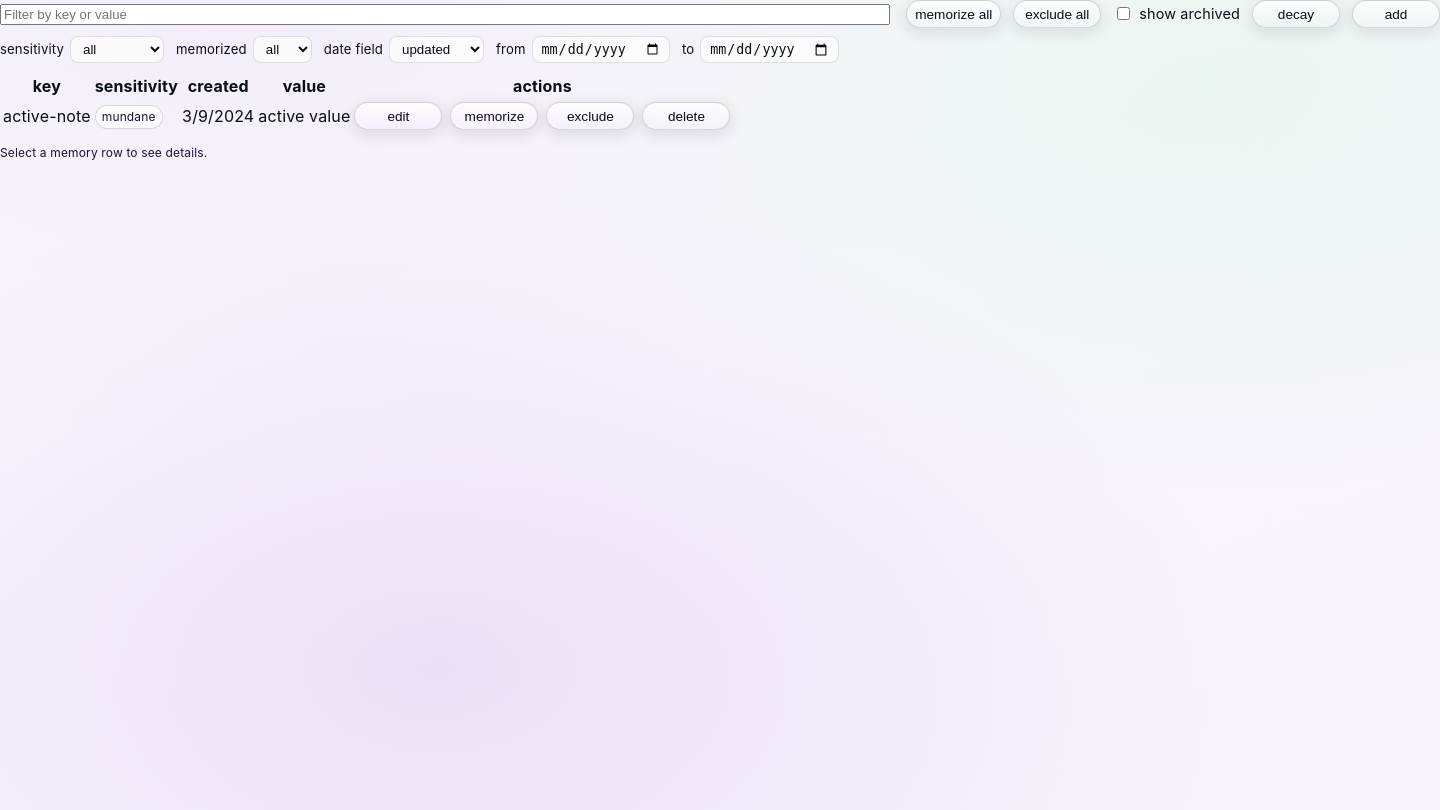
Test: MemoryTab › reloads with archived items when requested and surfaces last accessed details
Expected: the text "active-note" is shown, [2,101,92,131]
Expected: the text "archived-note" is not shown
Click the checkbox labelled "show archived" at (1124, 14), box [1117,8,1130,20]
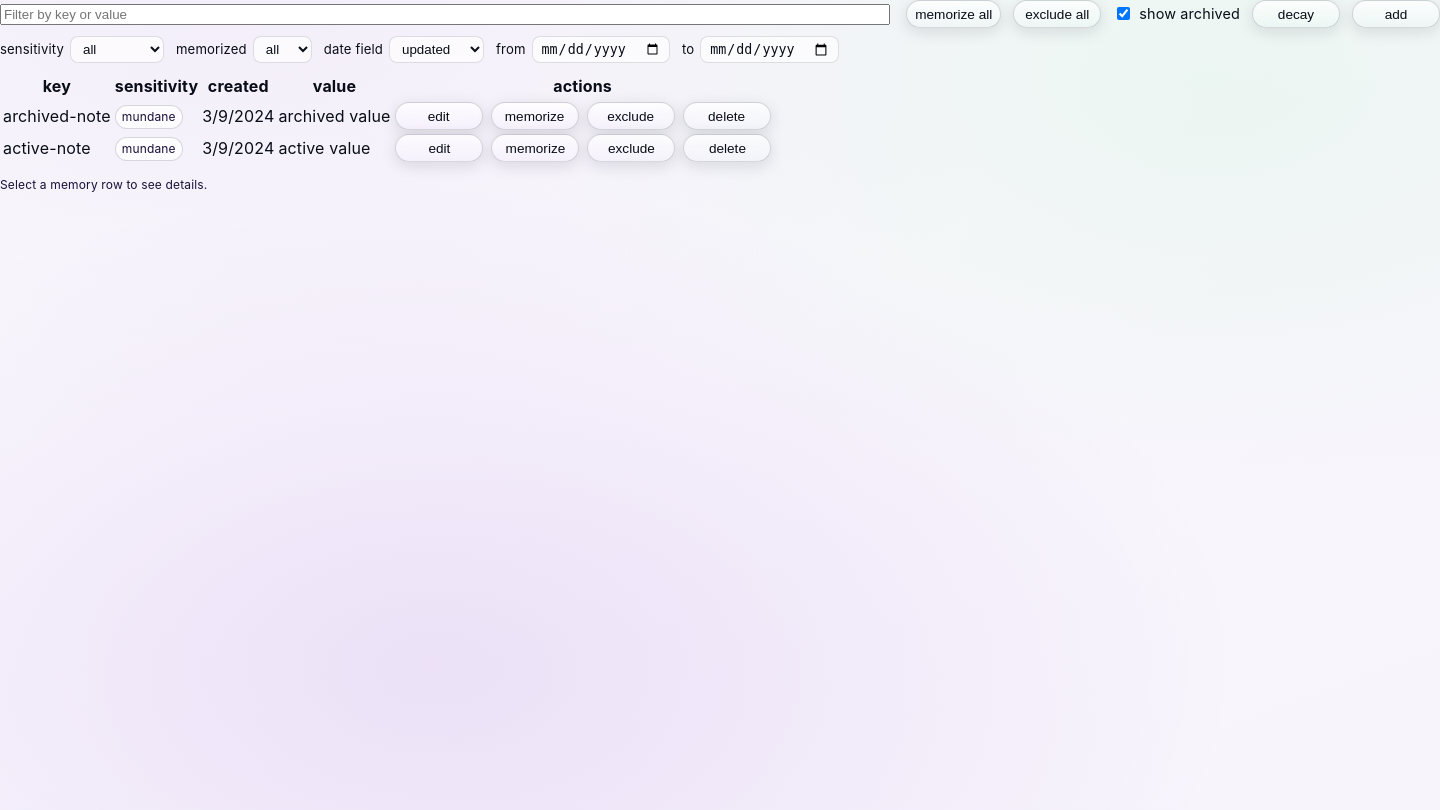
Click the text "archived-note" at (57, 116), box [2,101,112,131]
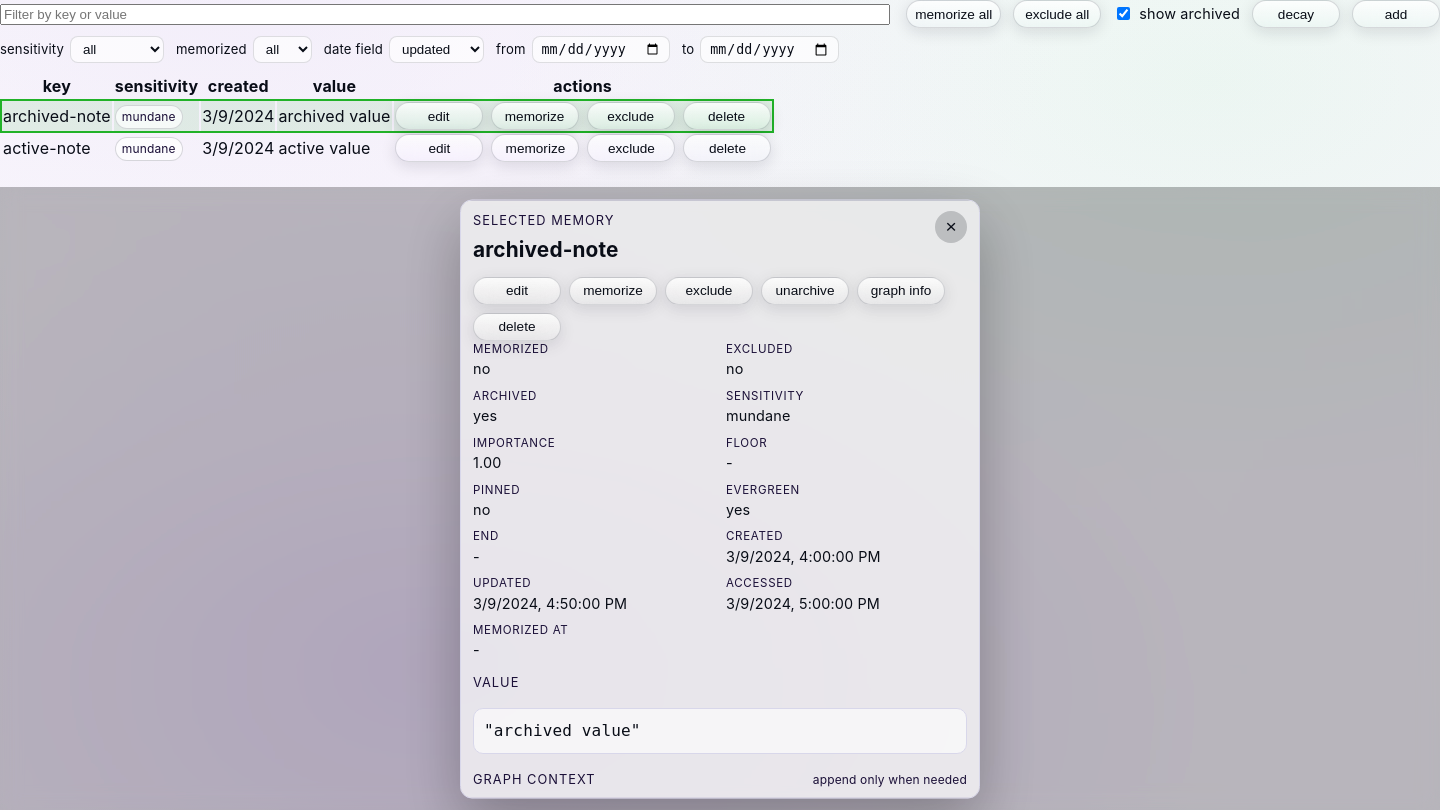
Expected: the button "Unarchive" is shown, [761,276,849,304]
